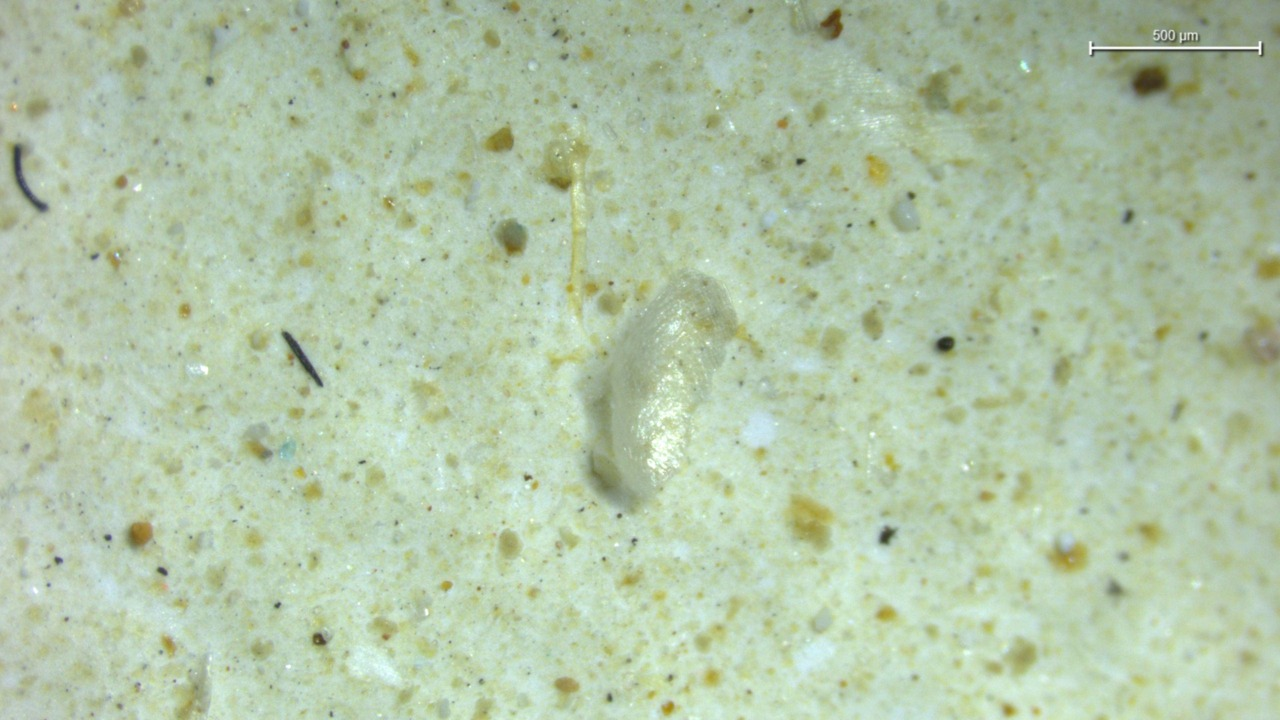microplastic_fragment: (591, 270, 737, 499), (890, 192, 920, 231)
